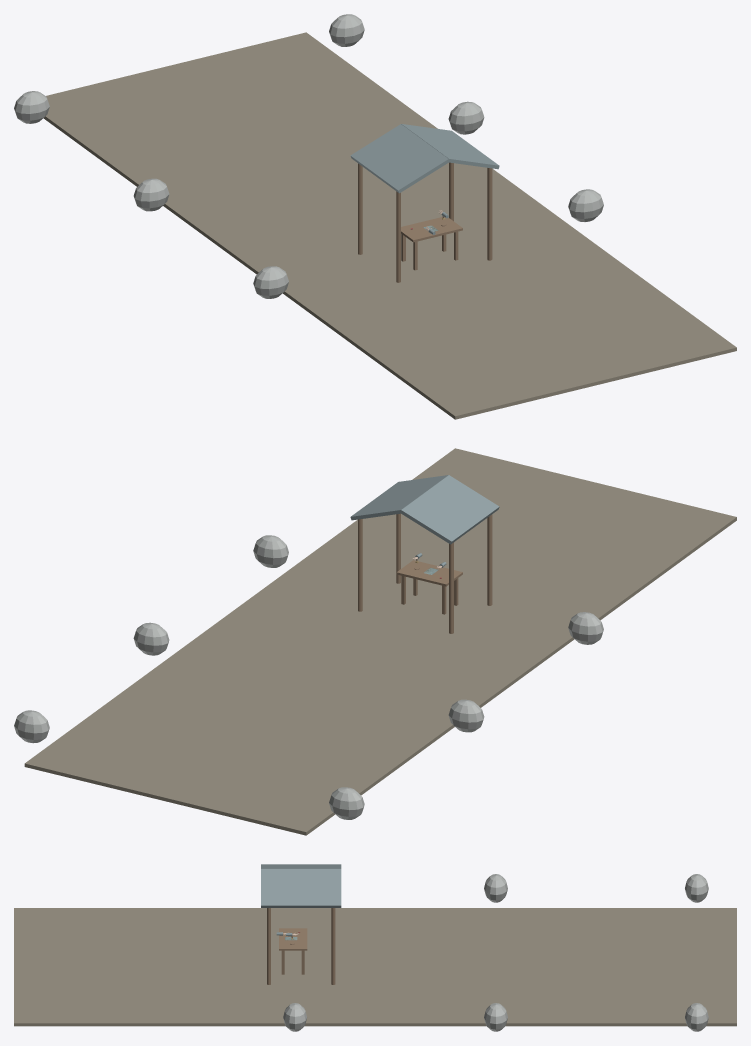
3 views of the same model, one above another, from view 1: azimuth 30°, elevation 25°; view 2: azimuth 150°, elevation 25°; view 3: azimuth 270°, elevation 25° (orthographic). The views are drawn at different scales.
Parts seen in each view (by area): view 1: roadbed (×6), rock (×6), roof_left, roof_right, tabletop; view 2: roadbed (×6), rock (×6), roof_left, roof_right, tabletop; view 3: roadbed (×6), roof_right, rock (×5), post (×2), tabletop, roof_left.
Boxes of the visible parts, bbox=[...] form: roadbed (×6): bbox=[43, 32, 736, 419]; rock (×6): bbox=[14, 14, 603, 298]; roof_left: bbox=[350, 124, 449, 193]; roof_right: bbox=[401, 124, 499, 169]; tabletop: bbox=[401, 217, 462, 242]; roadbed (×6): bbox=[24, 448, 736, 835]; rock (×6): bbox=[14, 535, 603, 819]; roof_left: bbox=[400, 475, 499, 544]; roof_right: bbox=[350, 475, 448, 520]; tabletop: bbox=[396, 560, 462, 586]; roadbed (×6): bbox=[14, 908, 736, 1026]; roof_right: bbox=[261, 869, 341, 907]; rock (×5): bbox=[283, 874, 708, 1031]; post (×2): bbox=[267, 908, 335, 984]; tabletop: bbox=[279, 928, 307, 950]; roof_left: bbox=[261, 864, 341, 868].
Bounding box in the file's own units: 8.4 × 2.74 × 18.
8 materials, 1 textured.
